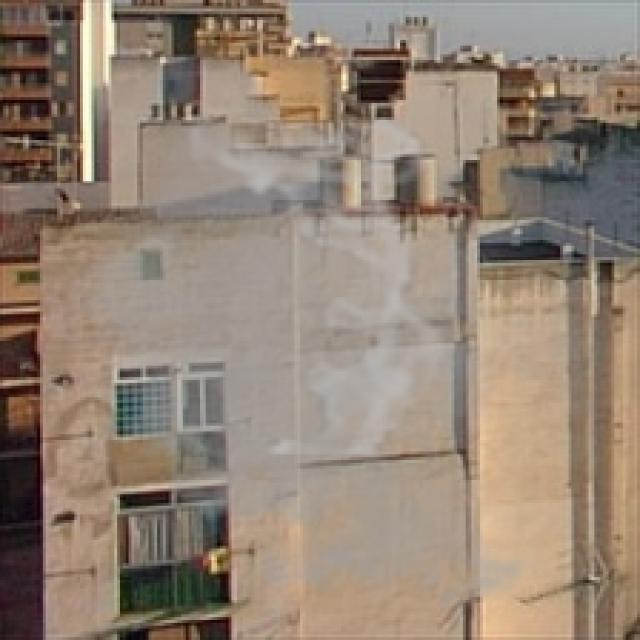smoke: (49, 103, 588, 626)
